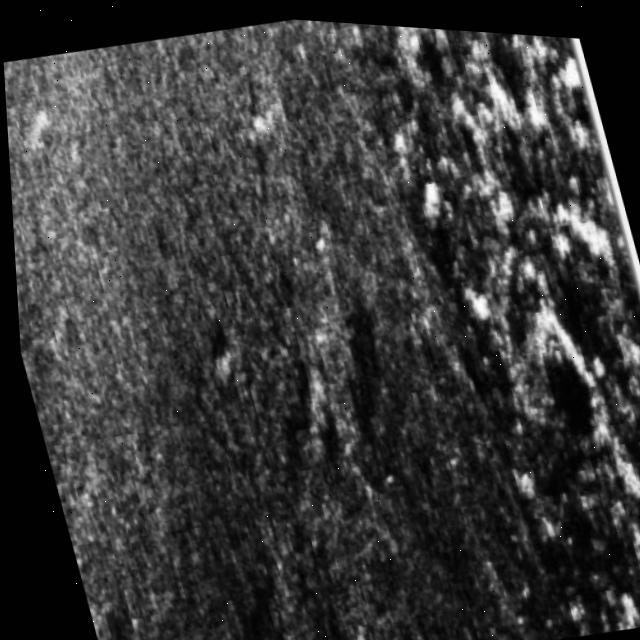bedrock group: (351, 18, 640, 640)
